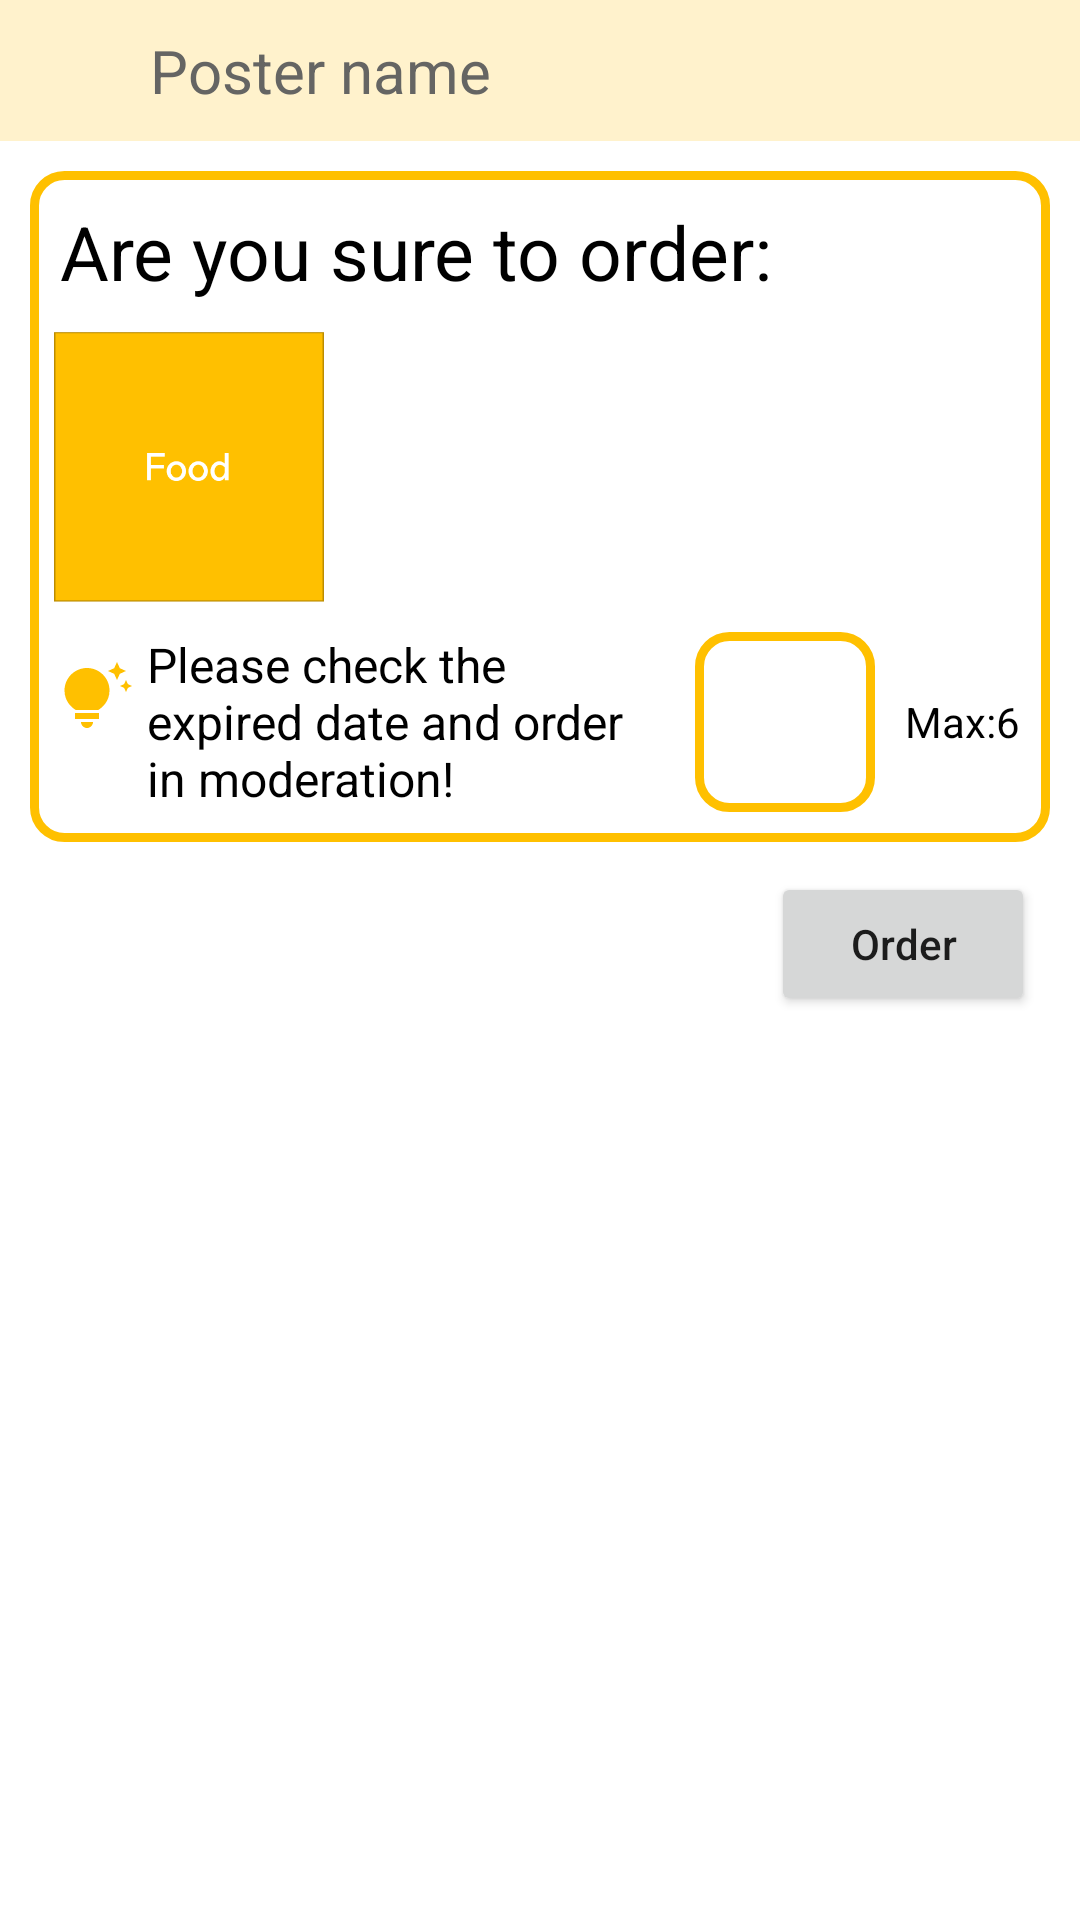

Icon click points for this 1080 x 1920 phone screenshot, format point (x, y):
tips: point (98, 695)
